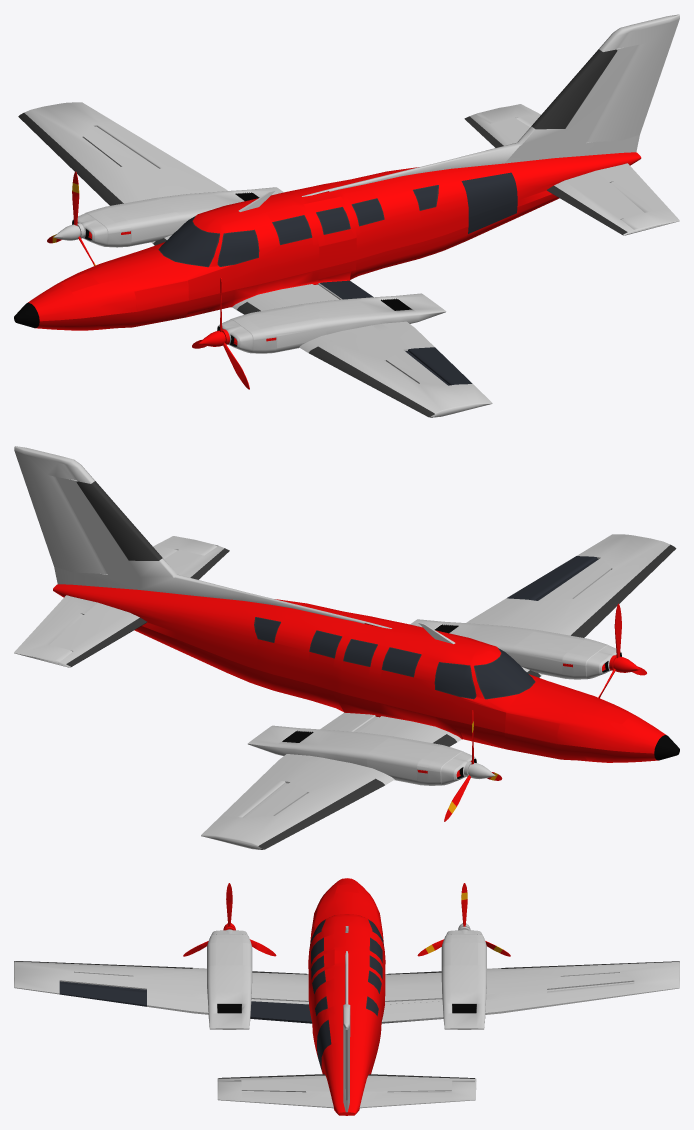
File: cessna.obj
The picture shows the model from 3 angles, top to bottom: view 1: azimuth 30°, elevation 25°; view 2: azimuth 150°, elevation 25°; view 3: azimuth 270°, elevation 25°; orthographic projection. The views are drawn at different scales.
Visible parts, largest first — view 1: fuselage, wings, engine, tail, fuslage2, deicing, rudder, glass, elevator, rflaps, access1, flaps1 (+8 smaller); view 2: fuselage, wings, engine, fuslage2, tail, deicing, glass, rudder, elevator, rflaps, access1, flaps2 (+3 smaller); view 3: wings, fuselage, engine, rflaps, elevator, flaps2, flaps1, glass, deicing, access1, rudder, vents2 (+5 smaller).
Boxes of the visible parts, x1,y1,x2,y2 form: fuselage: (27, 152, 641, 321); wings: (24, 102, 492, 417); engine: (77, 187, 446, 353); tail: (302, 14, 679, 196); fuslage2: (35, 159, 640, 330); deicing: (18, 49, 627, 417); rudder: (586, 18, 679, 142); glass: (159, 185, 437, 266); elevator: (465, 114, 679, 235); rflaps: (476, 104, 679, 230); access1: (107, 198, 326, 348); flaps1: (319, 280, 472, 385); fuselage: (53, 584, 665, 753); wings: (201, 534, 670, 849); engine: (248, 619, 616, 785); fuslage2: (53, 591, 658, 762); tail: (14, 446, 391, 628); deicing: (66, 481, 676, 849); glass: (255, 617, 534, 698); rudder: (14, 450, 107, 574); elevator: (14, 546, 229, 667); rflaps: (14, 536, 218, 662); access1: (367, 630, 586, 780); flaps2: (221, 712, 374, 817); wings: (14, 961, 679, 1014); fuselage: (308, 878, 385, 1115); engine: (207, 930, 486, 1029); rflaps: (217, 1080, 476, 1108); elevator: (217, 1075, 476, 1106); flaps2: (381, 981, 634, 1023); flaps1: (59, 981, 312, 1023); glass: (310, 920, 383, 1015); deicing: (14, 961, 679, 1078); access1: (207, 942, 486, 968); rudder: (343, 1015, 350, 1100); vents2: (217, 1004, 476, 1013).
Size of the model in its own units: 1.86 by 0.4623 by 2.
